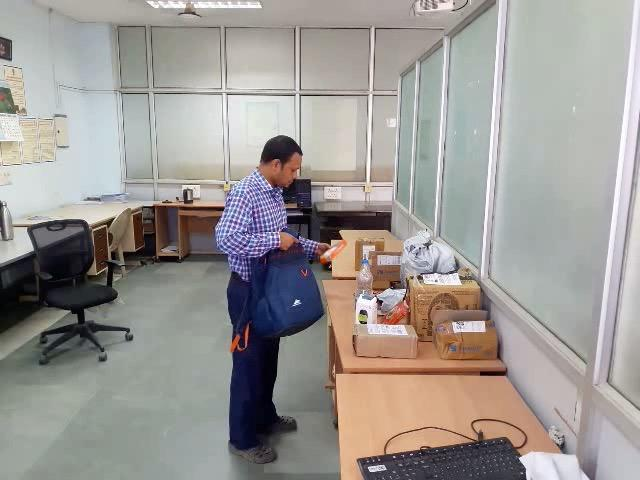shoplifting: (176, 194, 370, 332)
